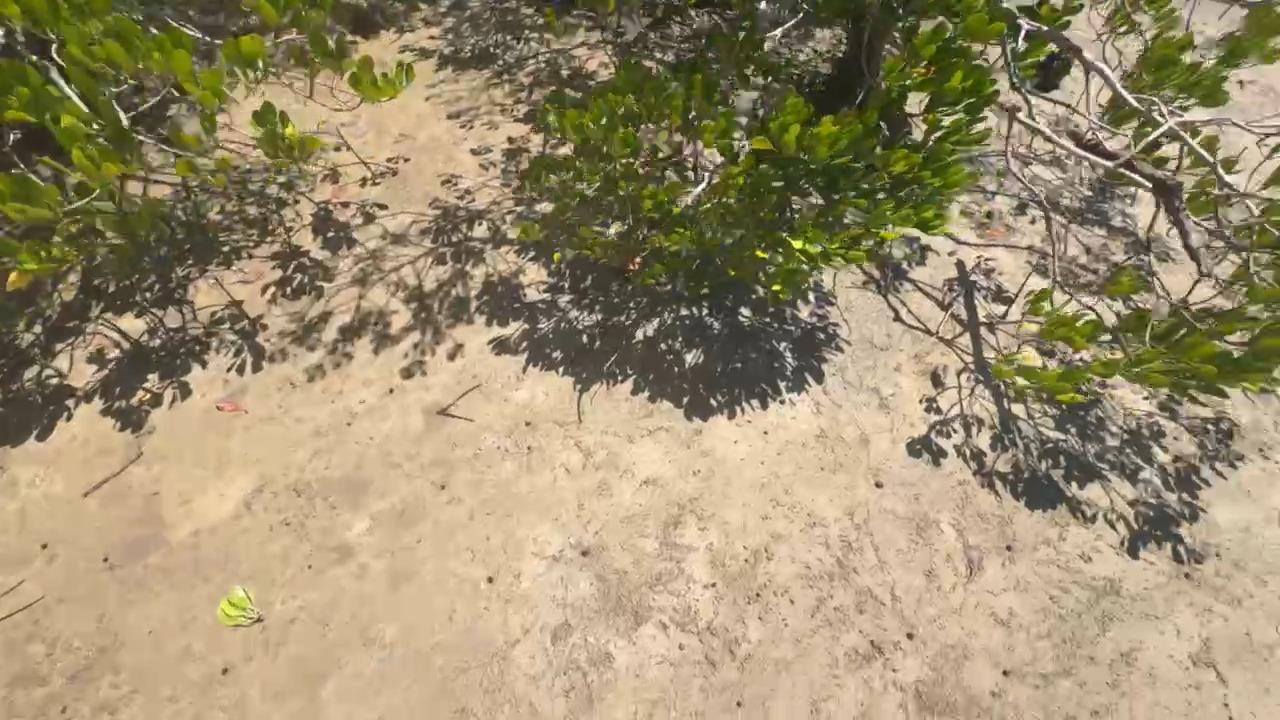Tree: (436, 384, 482, 415)
